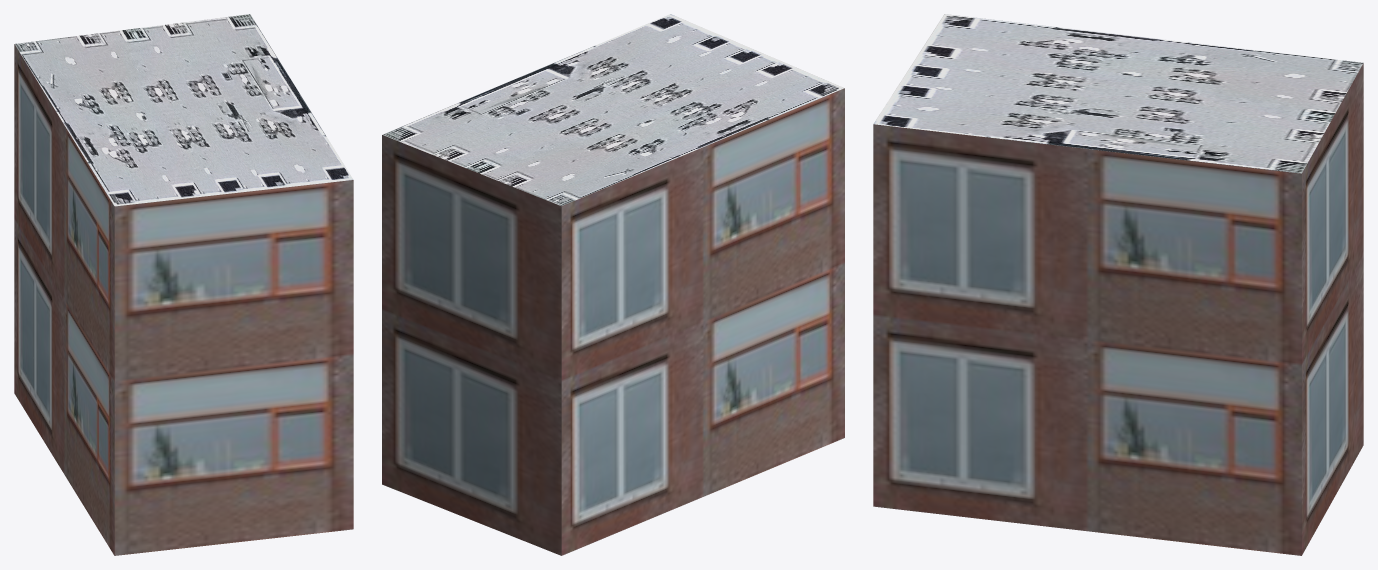
The model's file is ResTex__2478.fbx.
3 renders of one model, left to right at view 1: azimuth 30°, elevation 25°; view 2: azimuth 150°, elevation 25°; view 3: azimuth 270°, elevation 25°, orthographic. The views are drawn at different scales.
Visible parts, largest first — view 1: CityEngineMaterial_19_m, CityEngineMaterial_15_m; view 2: CityEngineMaterial_19_m, CityEngineMaterial_15_m; view 3: CityEngineMaterial_19_m, CityEngineMaterial_15_m.
Boxes of the visible parts, bbox=[...] form: CityEngineMaterial_19_m: bbox=[14, 44, 353, 555]; CityEngineMaterial_15_m: bbox=[14, 14, 353, 206]; CityEngineMaterial_19_m: bbox=[382, 88, 844, 555]; CityEngineMaterial_15_m: bbox=[382, 14, 844, 206]; CityEngineMaterial_19_m: bbox=[873, 63, 1363, 555]; CityEngineMaterial_15_m: bbox=[873, 14, 1363, 173].
Size of the model in its own units: 5.37 by 6 by 6.98.
Materials: 2 (2 with a texture image).
